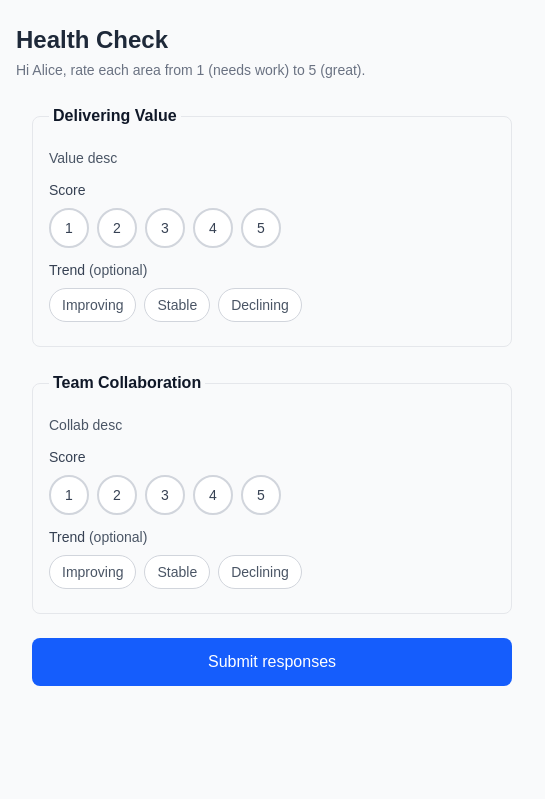
Test case: Session Link Page — Response Submission › submission flow (Req 4.6) › submits responses via POST /api/responses and shows confirmation
Expected: the text "Delivering Value" is shown, [49,104,181,128]
Note: Select scores for all questions
What coordinates should you click on to do the following:
click the radio button labelled "4" below "Value desc"
I would click on:
 (213, 228)
Its box is [193,208,233,248].
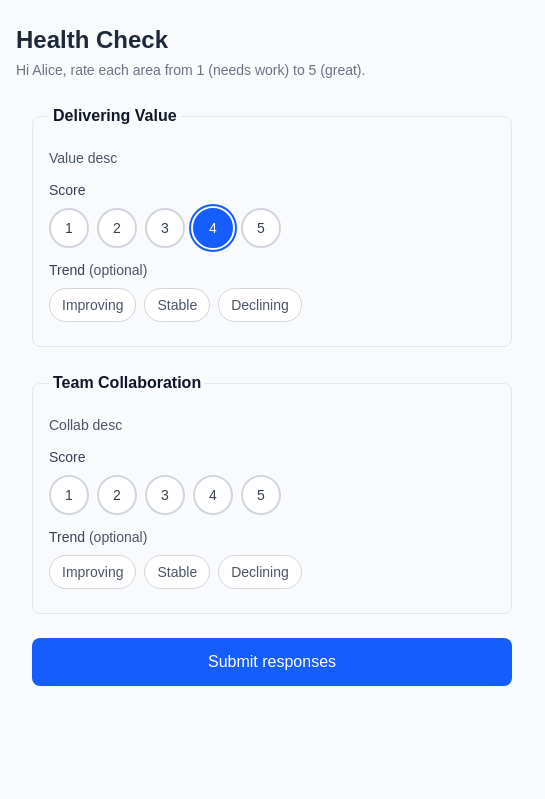
What coordinates should you click on to do the following:
click the radio button labelled "5" below "Collab desc"
I would click on:
 (261, 495)
Its box is [241,475,281,515].
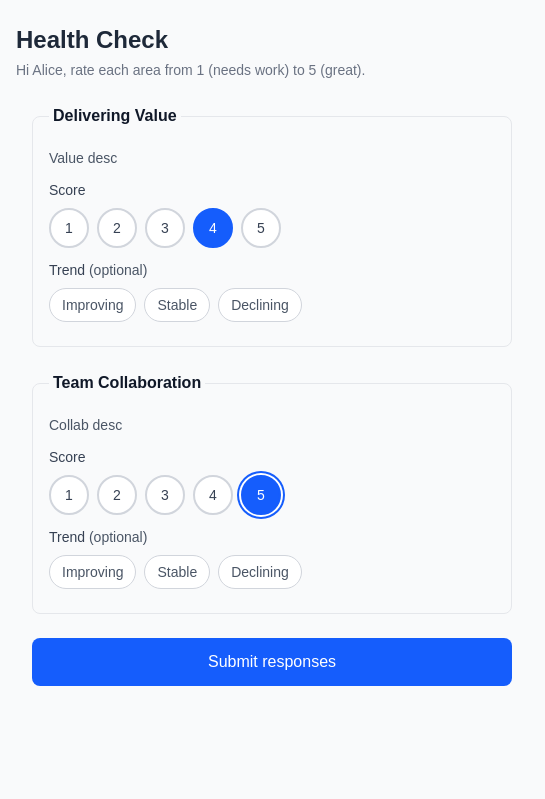
What coordinates should you click on to do the following:
click the button "Submit responses"
I would click on:
 (272, 662)
Its box is [32,638,512,686].
(page scrolled)
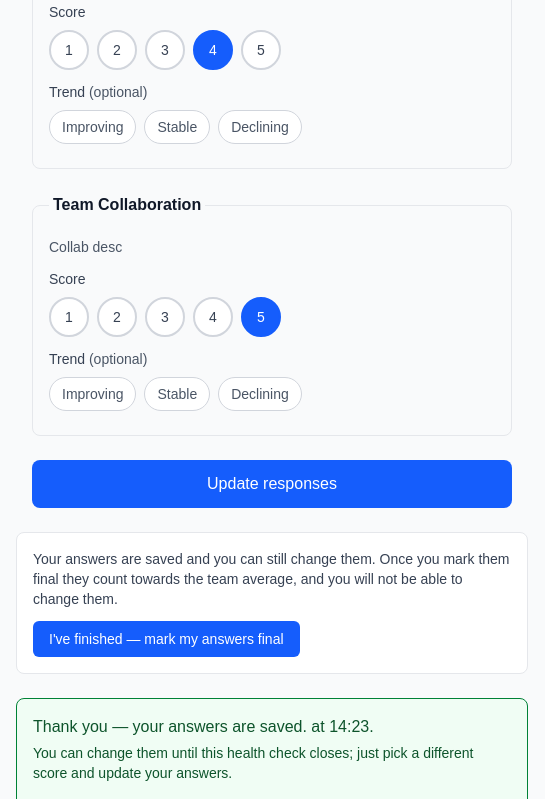
Expected: the text "Thank you — your answers are saved. at 14:23." is shown, [33,718,374,735]
